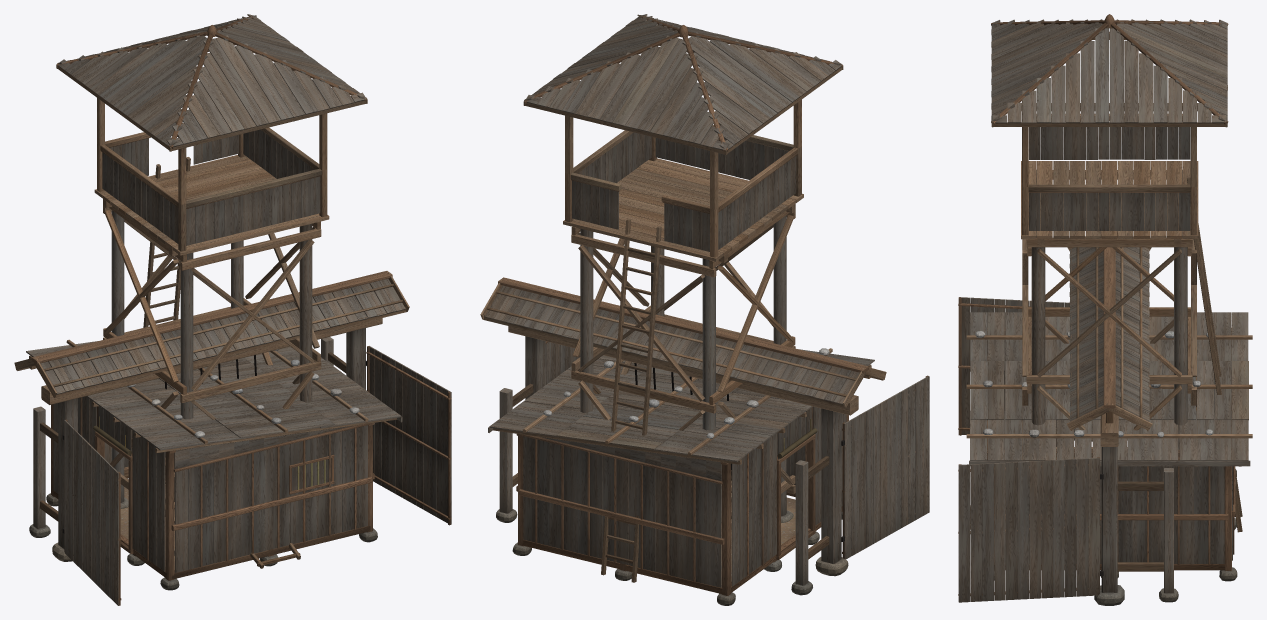
Rendered from props28.glb.
3 views of the same model, side by side, from view 1: azimuth 30°, elevation 25°; view 2: azimuth 150°, elevation 25°; view 3: azimuth 270°, elevation 25° (orthographic). The views are drawn at different scales.
Visible parts, largest first — view 1: hut_wood_weathered, kido_wood_weathered, tower_top_wood_weathered, tower_wood_aged, tower_wood_weathered, hut_wood_dark, kido_wood_aged, kido_wood_dark, tower_top_wood_aged, hut_wood_aged, tower_top_wood_dark, hut_stone_granite#curb (+1 smaller); view 2: hut_wood_weathered, kido_wood_weathered, tower_wood_aged, tower_top_wood_weathered, tower_wood_weathered, hut_wood_dark, kido_wood_aged, kido_wood_dark, tower_top_wood_aged, hut_wood_aged, tower_top_wood_dark, kido_stone_granite#curb (+2 smaller); view 3: kido_wood_weathered, hut_wood_weathered, tower_top_wood_weathered, tower_wood_aged, tower_wood_weathered, kido_wood_aged, hut_wood_dark, kido_wood_dark, hut_wood_aged, tower_top_wood_aged, tower_top_wood_dark, hut_stone_granite (+1 smaller).
Part boxes in pixels (x1,y1,x2,y2): hut_wood_weathered: (26,341,402,572); kido_wood_weathered: (33,278,451,605); tower_top_wood_weathered: (57,14,366,146); tower_wood_aged: (94,127,329,523); tower_wood_weathered: (102,129,320,502); hut_wood_dark: (51,397,374,580); kido_wood_aged: (14,271,409,521); kido_wood_dark: (31,271,451,605); tower_top_wood_aged: (56,44,367,204); hut_wood_aged: (29,339,396,453); tower_top_wood_dark: (57,16,366,148); hut_stone_granite#curb: (46,493,377,590); hut_wood_weathered: (488,349,874,587); kido_wood_weathered: (484,285,929,585); tower_wood_aged: (563,125,803,582); tower_top_wood_weathered: (524,14,842,150); tower_wood_weathered: (572,132,796,516); hut_wood_dark: (516,406,848,595); kido_wood_aged: (480,278,886,559); kido_wood_dark: (498,277,927,558); tower_top_wood_aged: (523,44,843,209); hut_wood_aged: (493,348,871,464); tower_top_wood_dark: (524,16,842,151); kido_stone_granite#curb: (496,509,848,595); kido_wood_weathered: (959,247,1173,602); hut_wood_weathered: (969,312,1250,564); tower_top_wood_weathered: (991,19,1227,123); tower_wood_aged: (1021,113,1242,532); tower_wood_weathered: (1029,121,1190,449); kido_wood_aged: (1066,231,1163,571); hut_wood_dark: (987,328,1235,570); kido_wood_dark: (958,247,1115,601); hut_wood_aged: (966,335,1252,466); tower_top_wood_aged: (991,24,1227,186); tower_top_wood_dark: (991,14,1228,124); hut_stone_granite: (975,331,1212,437).
Size of the model in its own units: 7.16 by 9.57 by 4.96.
12 materials, 8 textured.
